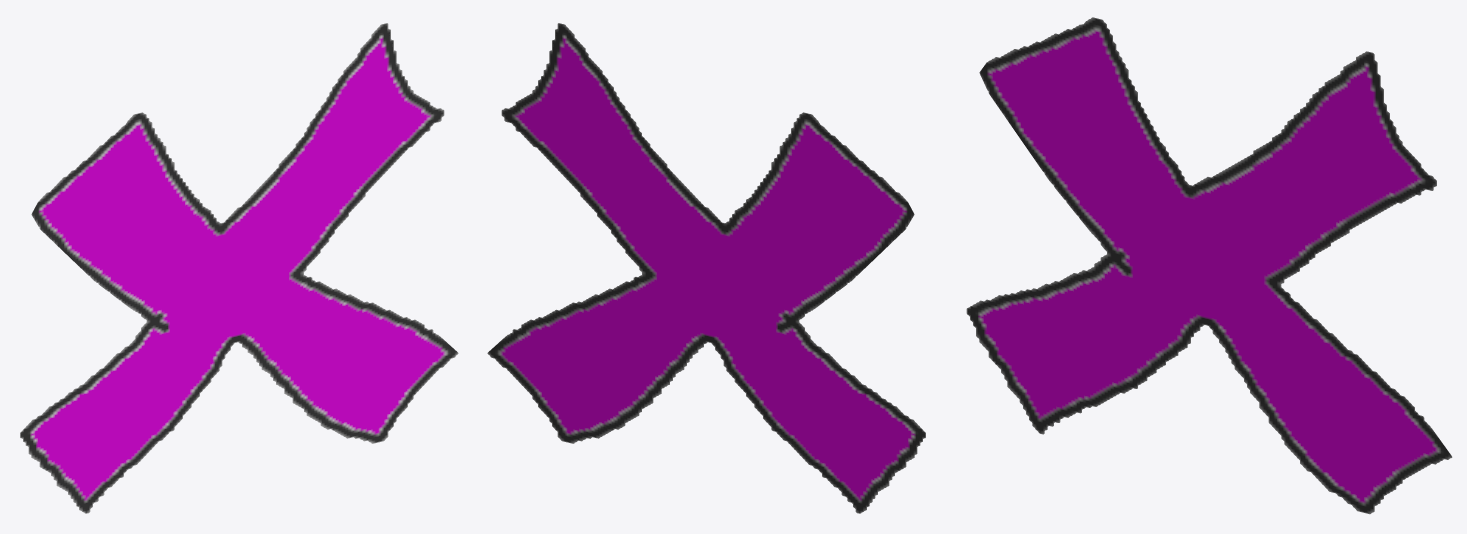
Rendered from tiems.fbx.
3 views of the same model, side by side, from view 1: azimuth 30°, elevation 25°; view 2: azimuth 150°, elevation 25°; view 3: azimuth 330°, elevation 25° (orthographic). The views are drawn at different scales.
Visible parts, largest first — view 1: Cube; view 2: Cube; view 3: Cube.
Boxes of the visible parts, left/top/right/bottom form: Cube: left=20, top=23, right=458, bottom=513; Cube: left=487, top=23, right=925, bottom=513; Cube: left=966, top=17, right=1452, bottom=514.
Size of the model in its own units: 200 by 185 by 3.02e-05.
